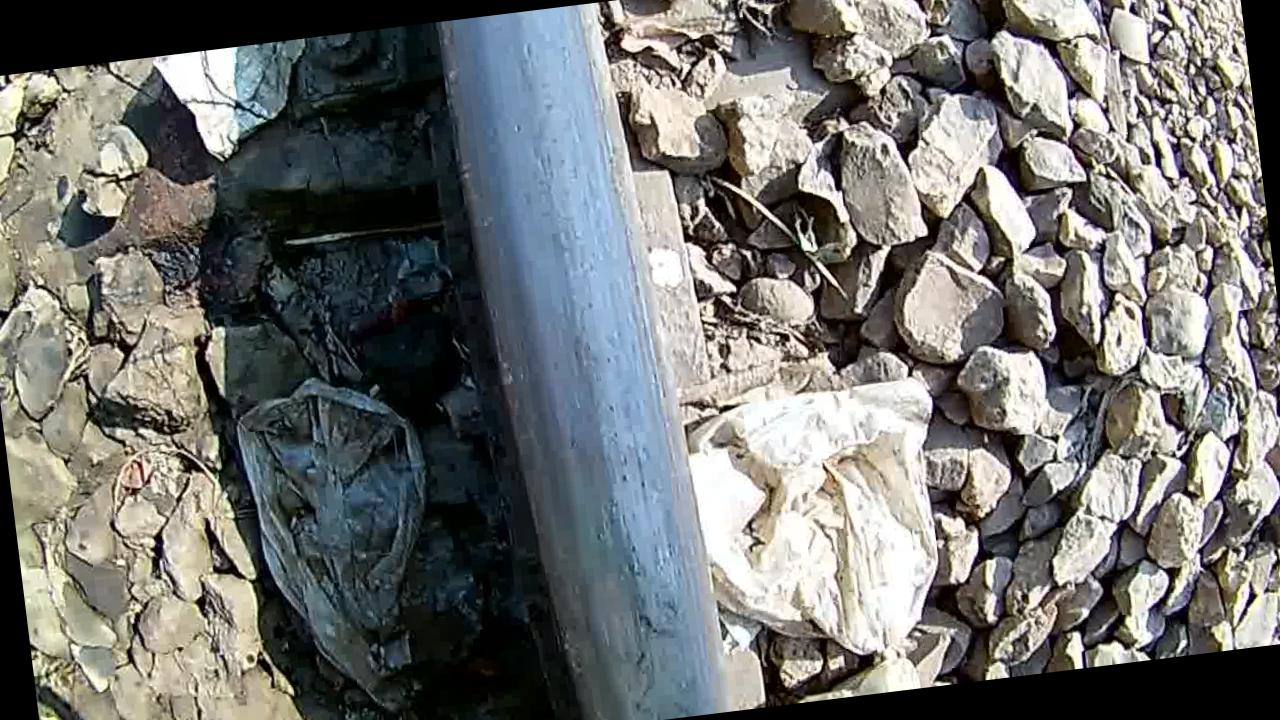bolt_missing: (537, 477, 721, 720)
